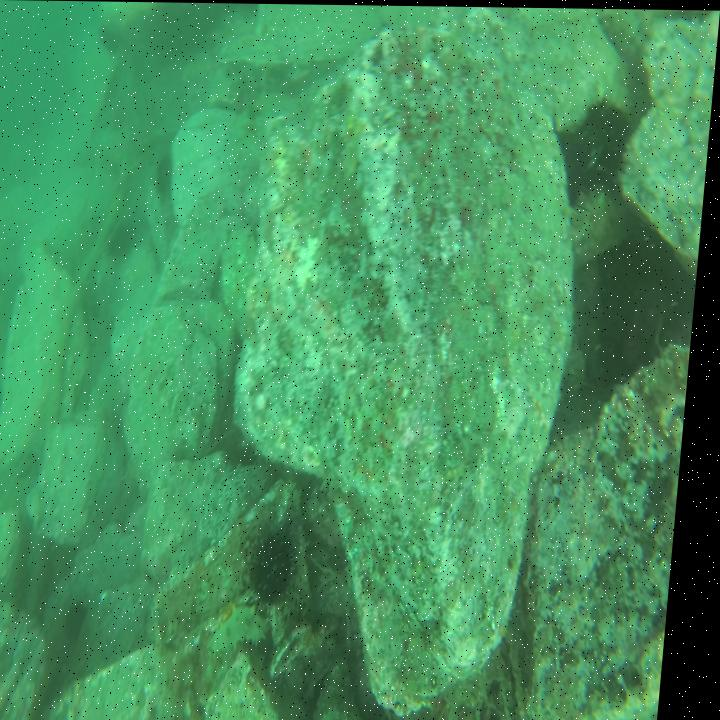echinus: (256, 529, 306, 608), (578, 187, 626, 257), (75, 600, 101, 642)
